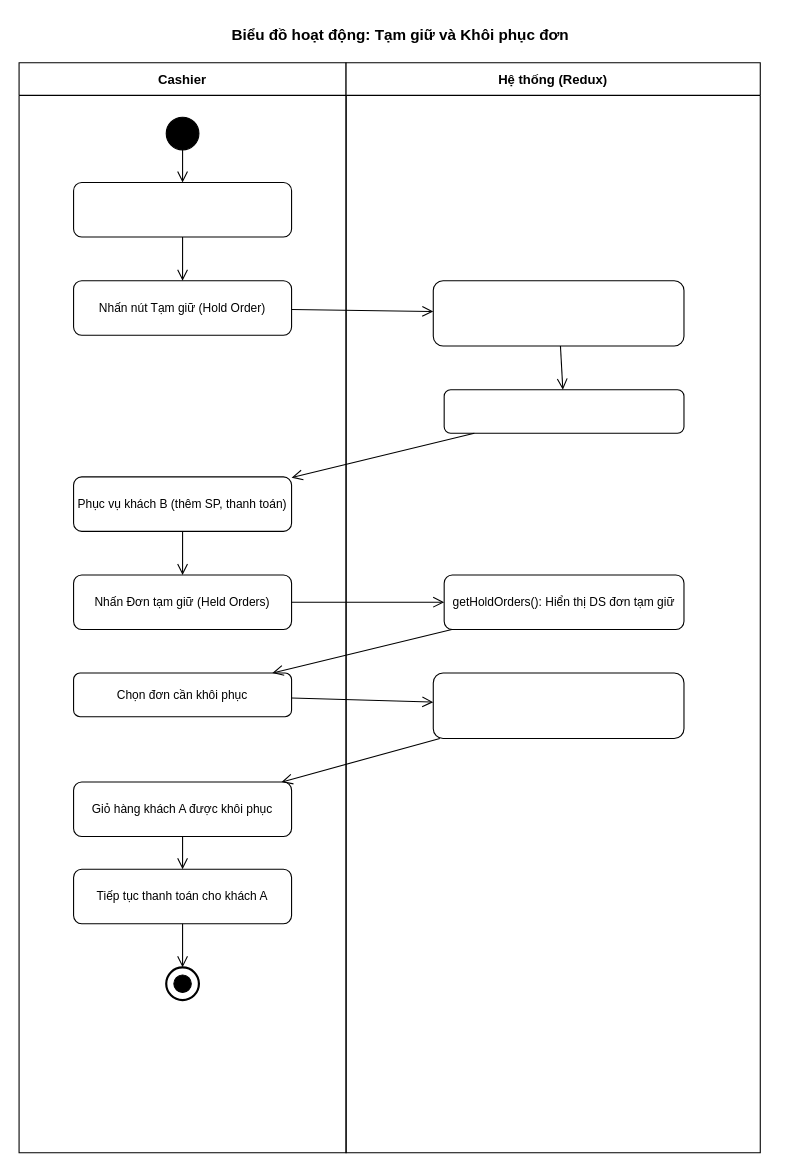
Some shapes in this 801 by 1172 pixel diagram are drawn without their labels. Here are the shapes that lost their labels. From the top down, the centre of each, then its label:
the point at 182,209: Thêm SP vào giỏ hàng (đang phục vụ khách A)
the point at 558,313: holdCurrentCart(): Lưu giỏ vào holdOrders[] Tạo giỏ hàng mới (rỗng)
the point at 563,411: Hiển thị badge số đơn tạm giữ
the point at 558,705: resumeHoldOrder(index): Lấy đơn từ holdOrders[] Set làm giỏ hiện tại
